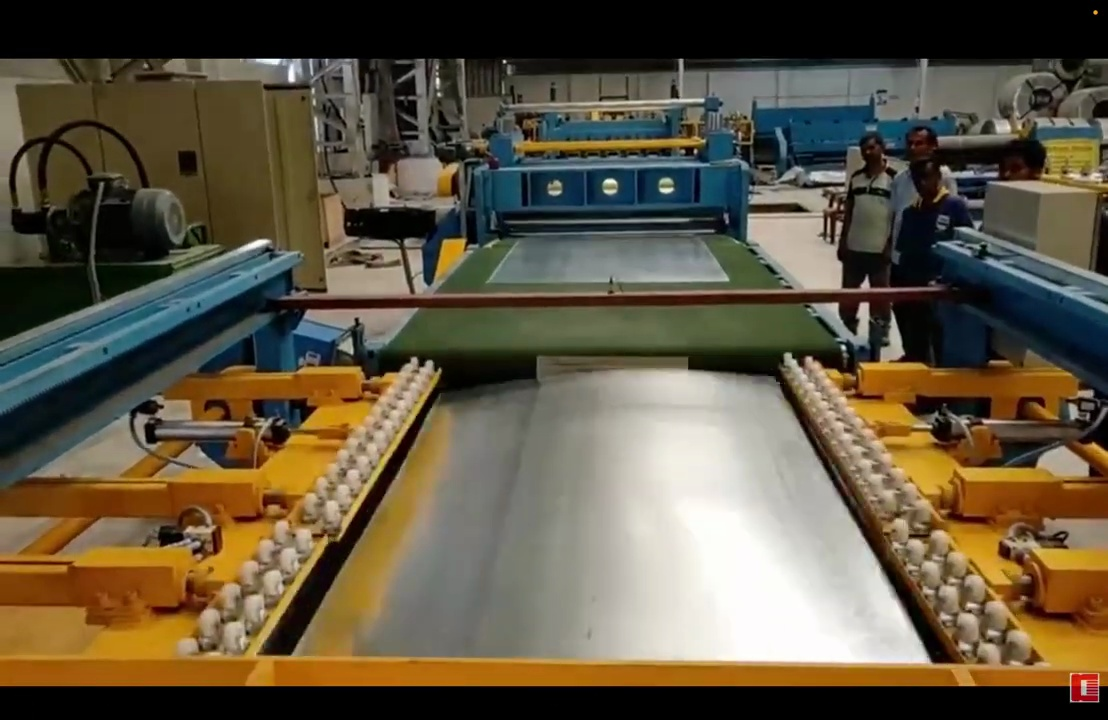steel plate: (297, 370, 927, 662), (489, 234, 728, 283)
